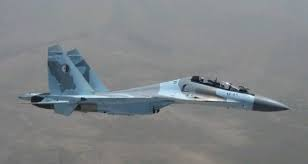maybay_muctieu: (21, 34, 293, 126)
